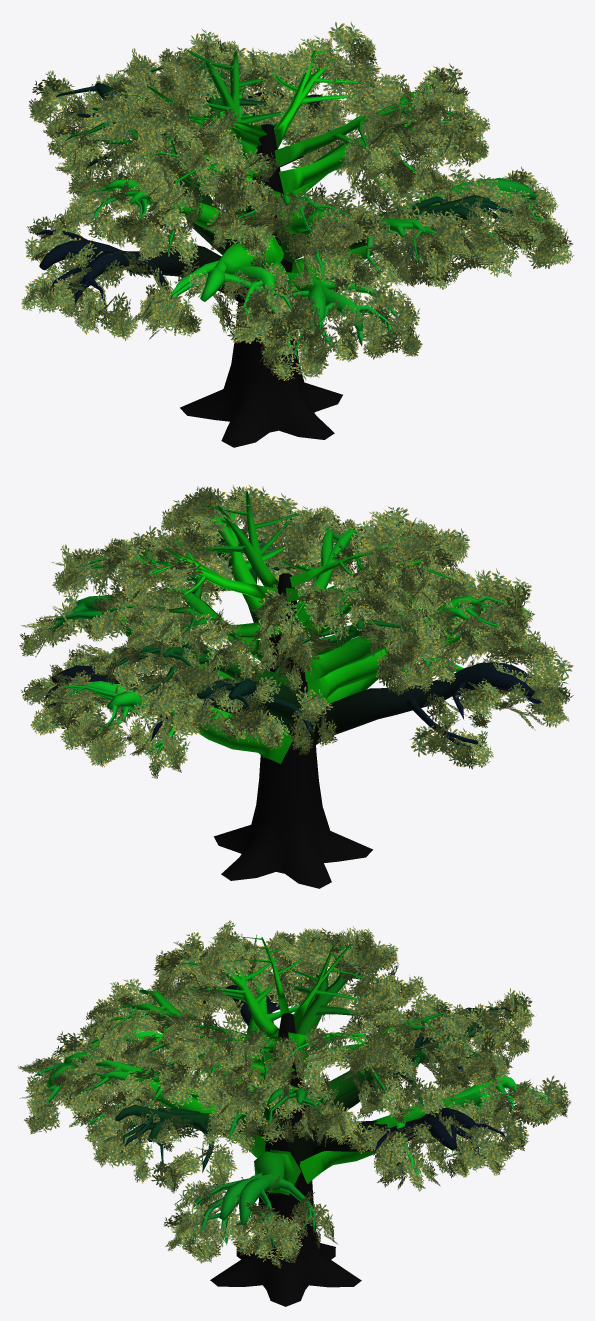
The model's file is tree+stylized leaf.fbx.
3 views of the same model, one above another, from view 1: azimuth 30°, elevation 25°; view 2: azimuth 150°, elevation 25°; view 3: azimuth 270°, elevation 25° (orthographic). The views are drawn at different scales.
Parts seen in each view (by area): view 1: clump leaf_1, bark07_0; view 2: clump leaf_1, bark07_0; view 3: clump leaf_1, bark07_0.
Part boxes in pixels (<box>): clump leaf_1: <box>21,21,574,381</box>; bark07_0: <box>35,48,553,447</box>; clump leaf_1: <box>19,484,573,778</box>; bark07_0: <box>44,491,548,888</box>; clump leaf_1: <box>18,920,571,1268</box>; bark07_0: <box>33,936,553,1306</box>.
Size of the model in its own units: 1482 by 888 by 1455.
